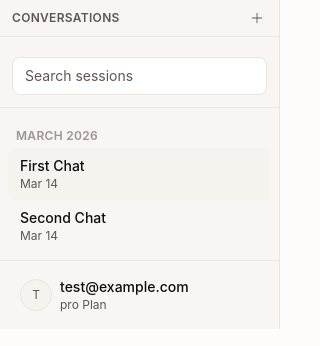
Scenario: SessionSidebar › opens context menu with right-click on session item
Step 1. Right-click the element with test id "session-item-session-1" → (140, 174), box [8,148,271,200]
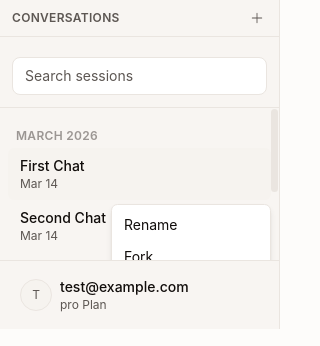
Check: the button "Rename" is shown, box [124,216,178,233]
Check: the button "Fork" is shown, box [124,248,153,260]
